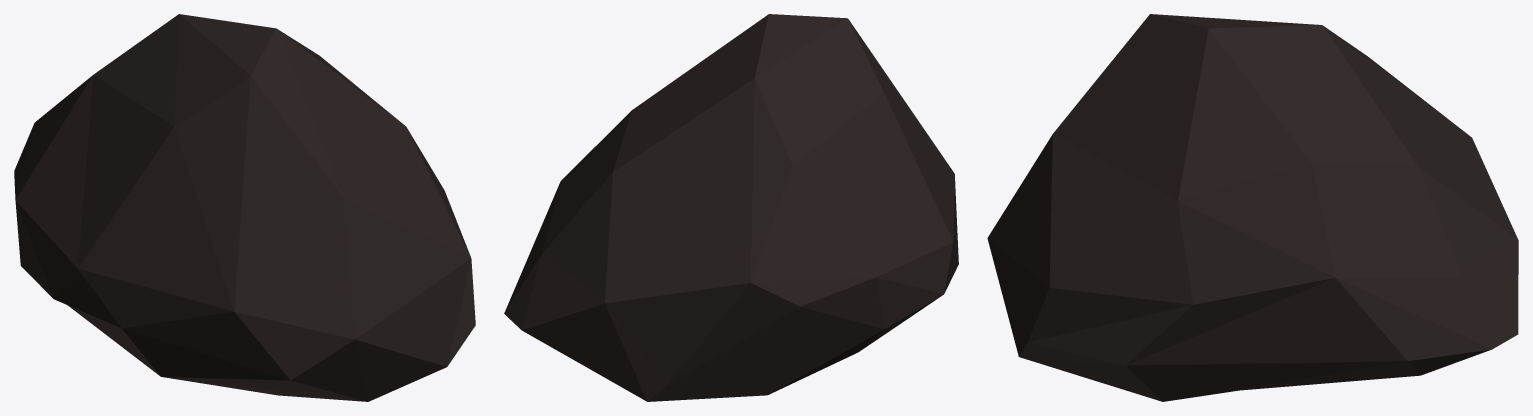
The model's file is Rock 13.FBX.
3 renders of one model, left to right at view 1: azimuth 30°, elevation 25°; view 2: azimuth 150°, elevation 25°; view 3: azimuth 270°, elevation 25°, orthographic. The views are drawn at different scales.
Visible parts, largest first — view 1: cube; view 2: cube; view 3: cube.
Boxes of the visible parts, x1,y1,x2,y2 form: cube: (14,14,475,401); cube: (504,14,958,401); cube: (987,14,1518,401).
Bounding box in the file's own units: 97.79 × 81.32 × 120.
